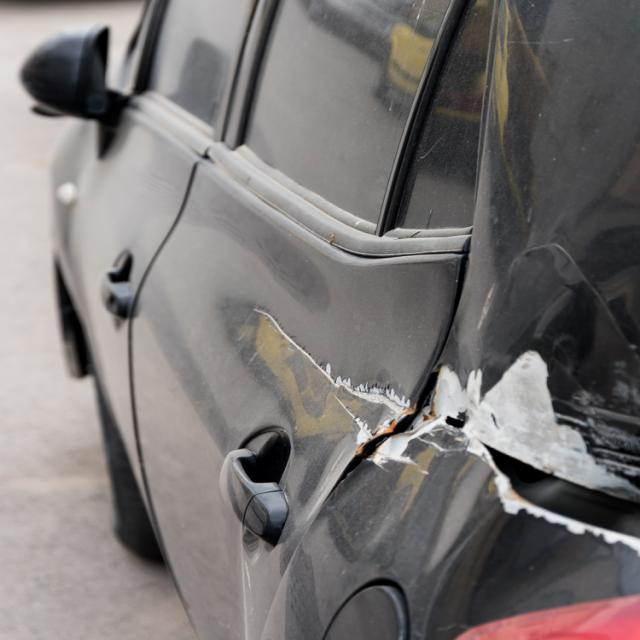Dechirure: (326, 336, 465, 512), (476, 439, 640, 584)
Rayure: (365, 343, 640, 472), (230, 302, 411, 446), (553, 333, 640, 484)
